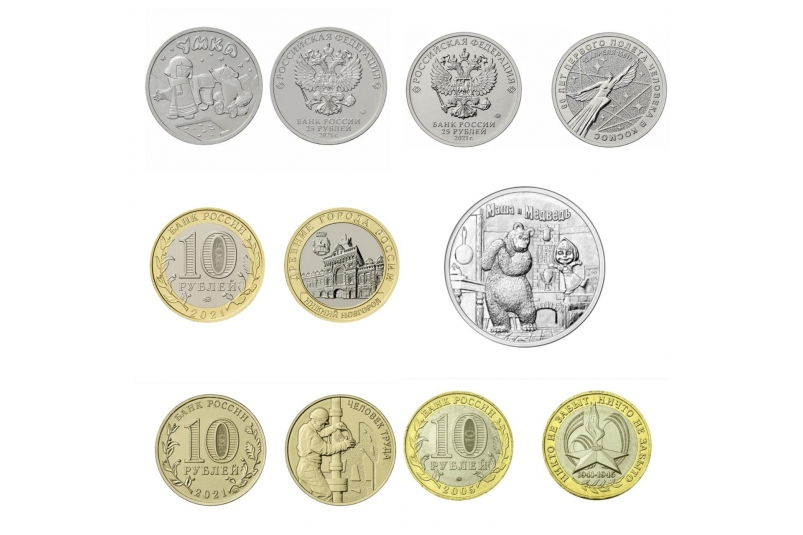coin: (441, 185, 607, 347), (144, 26, 265, 147), (270, 28, 388, 146), (404, 31, 523, 147), (551, 33, 669, 149), (150, 206, 265, 323), (154, 394, 267, 507), (285, 210, 397, 323), (286, 394, 396, 508), (407, 391, 515, 502), (546, 391, 654, 500)
